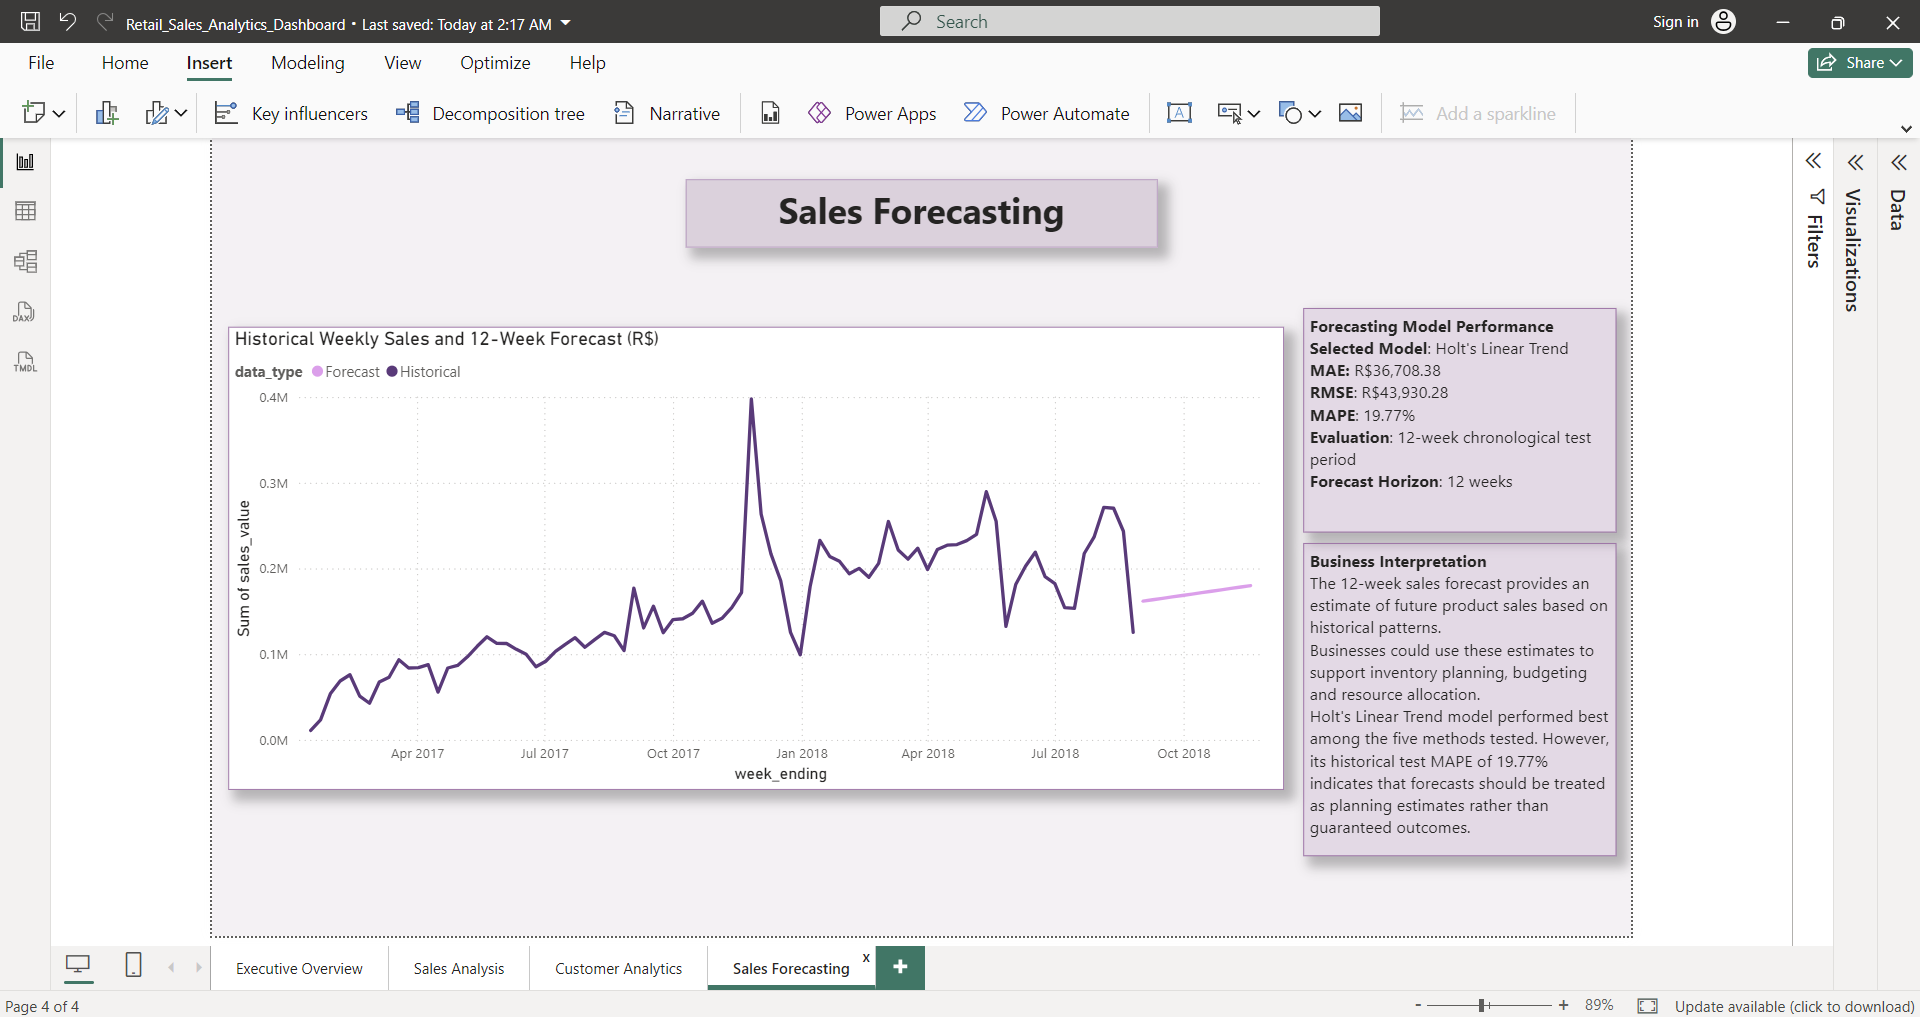

The dashboard page shown, as its layout file describes it:
{"tool":"powerbi","page":{"name":"Sales Forecasting","canvas":[1280,720],"ordinal":3},"visuals":[{"type":"textbox","box":[426.7,37.2,425.6,61.6],"z":0},{"type":"lineChart","title":"Historical Weekly Sales and 12-Week Forecast (R$)","fields":{"Y":["Sum(weekly_sales_forecast.sales_value)"],"Series":["weekly_sales_forecast.data_type"],"Category":["weekly_sales_forecast.week_ending"]},"box":[15.1,169.8,952.3,417.4],"z":1000},{"type":"textbox","box":[983.7,153.5,282.6,202.3],"z":2000},{"type":"textbox","box":[983.7,365.1,282.6,282.6],"z":3000}]}

Visuals, with their boxes on the page's 1280x720 design canvas (x1, y1, x2, y2). These are canvas units, not pixel positions in the 1920x1017 screenshot, which may show the page scaled, cropped or inside an application window:
textbox: 427 37 852 99
"Historical Weekly Sales and 12-Week Forecast (R$)" lineChart: 15 170 967 587
textbox: 984 154 1266 356
textbox: 984 365 1266 648
